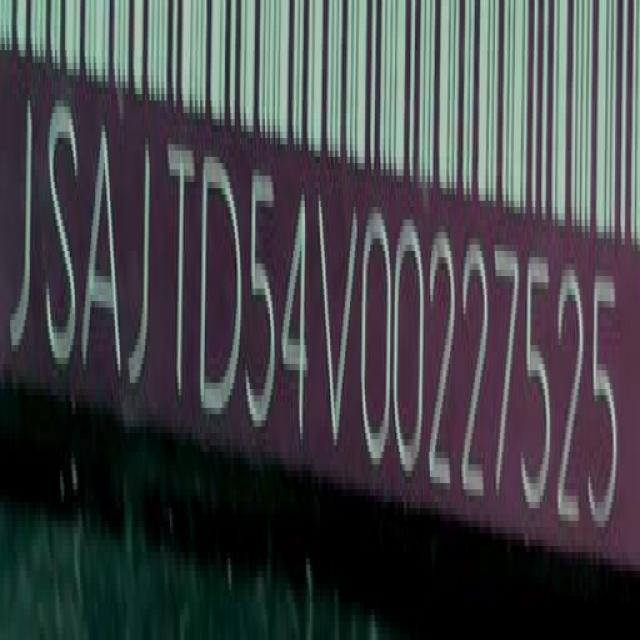0: (364, 204, 394, 483), (396, 206, 425, 488)
2: (556, 256, 586, 540), (460, 234, 491, 508), (428, 219, 457, 502)
4: (284, 176, 315, 460)
5: (248, 154, 280, 443), (592, 260, 622, 542), (524, 245, 554, 524)
7: (496, 240, 522, 518)
A: (86, 101, 122, 396)
D: (200, 143, 240, 435)
J: (125, 142, 154, 402), (11, 95, 35, 372)
S: (45, 89, 79, 381)
T: (166, 129, 194, 419)
V: (319, 185, 358, 472)
